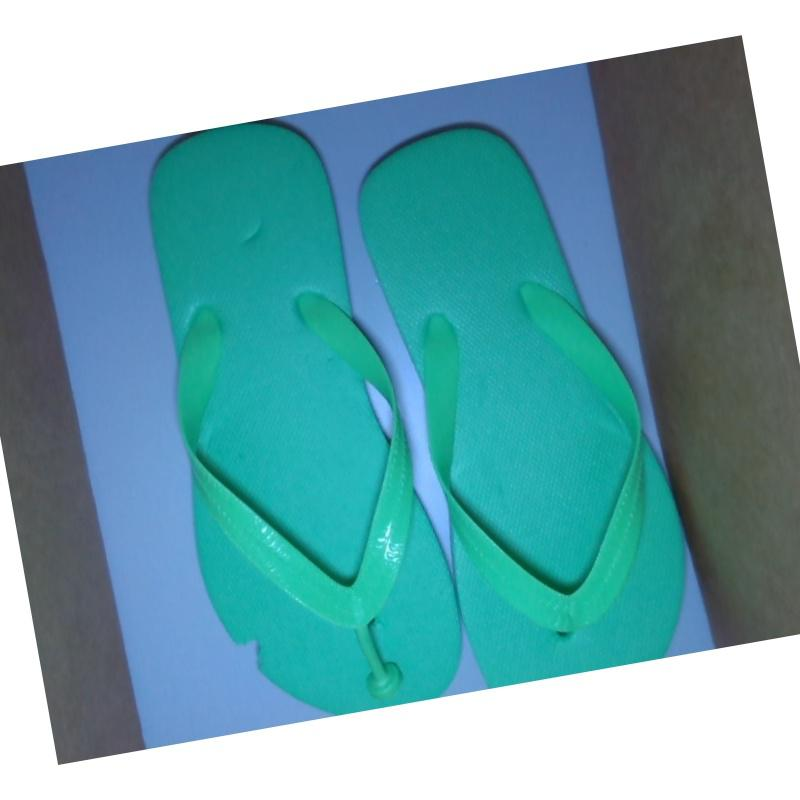chipped: (222, 624, 280, 690)
detached: (354, 655, 411, 706)
